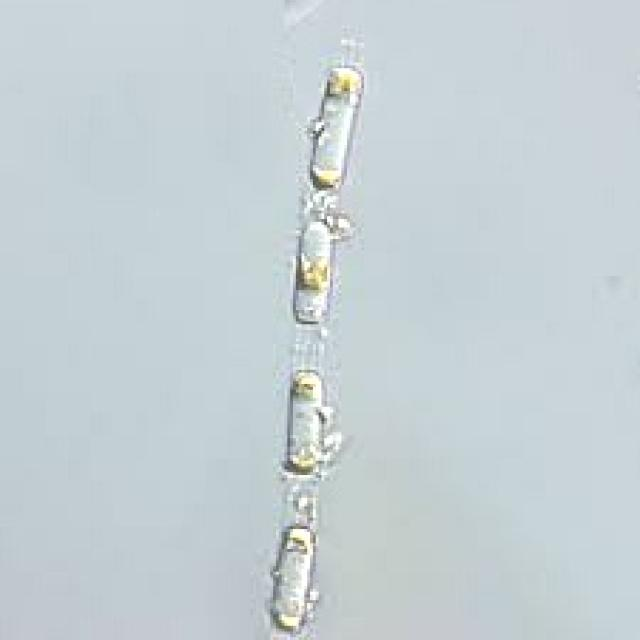Skeletonema: (262, 53, 383, 629)
